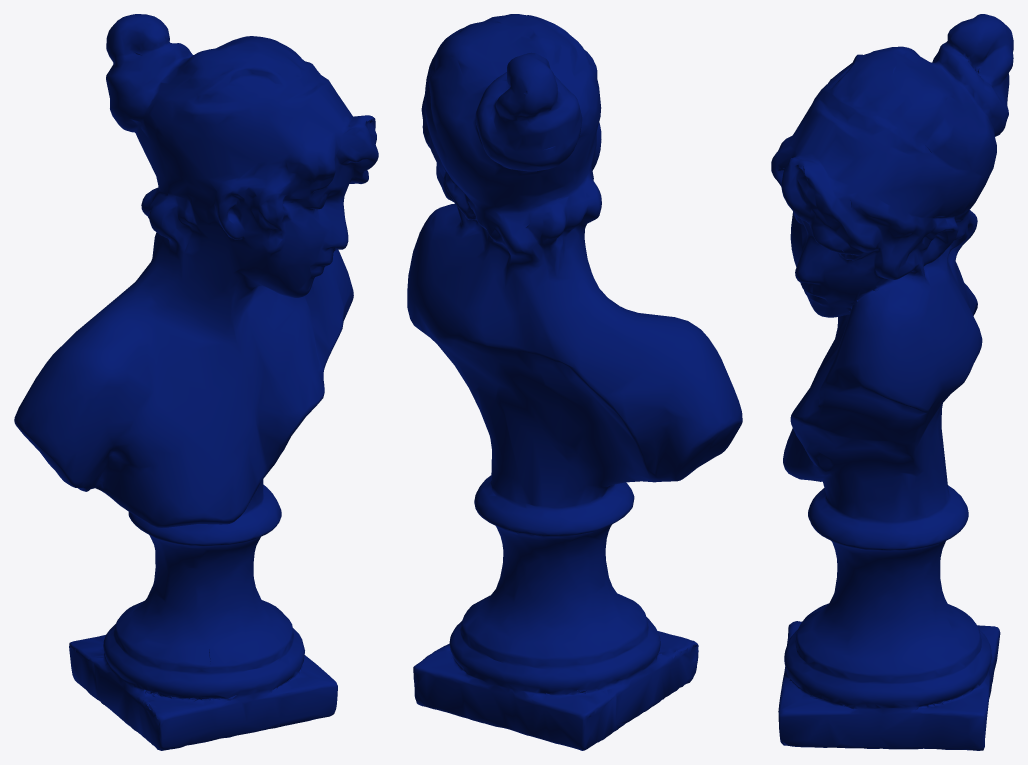
Rendered from lady.FBX.
The picture shows the model from 3 angles, left to right: view 1: azimuth 30°, elevation 25°; view 2: azimuth 150°, elevation 25°; view 3: azimuth 270°, elevation 25°; orthographic projection. The views are drawn at different scales.
Visible parts, largest first — view 1: sub01; view 2: sub01; view 3: sub01.
Part boxes in pixels (x1,y1,x2,y2): sub01: (14, 14, 378, 750); sub01: (407, 14, 742, 750); sub01: (771, 14, 1013, 750).
Size of the model in its own units: 41.02 by 80.41 by 25.95.
